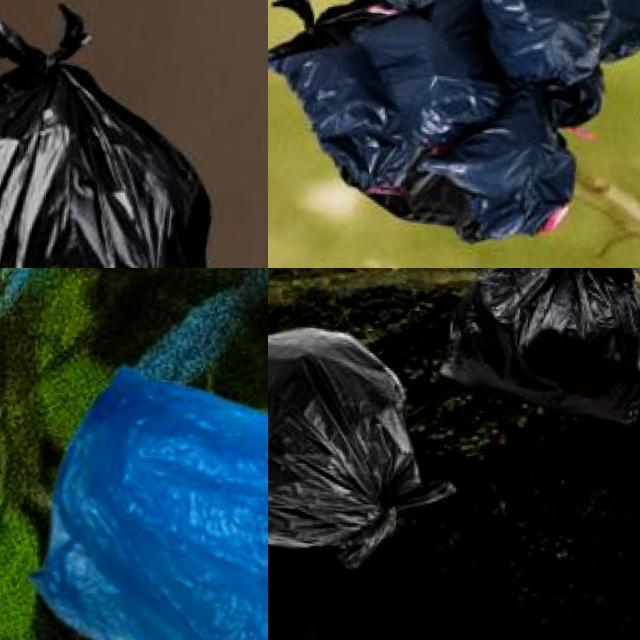waste: (25, 355, 268, 640), (0, 11, 227, 268), (268, 305, 466, 584), (451, 268, 640, 429), (337, 0, 511, 121), (455, 89, 581, 234), (268, 40, 415, 164), (461, 0, 606, 77)
